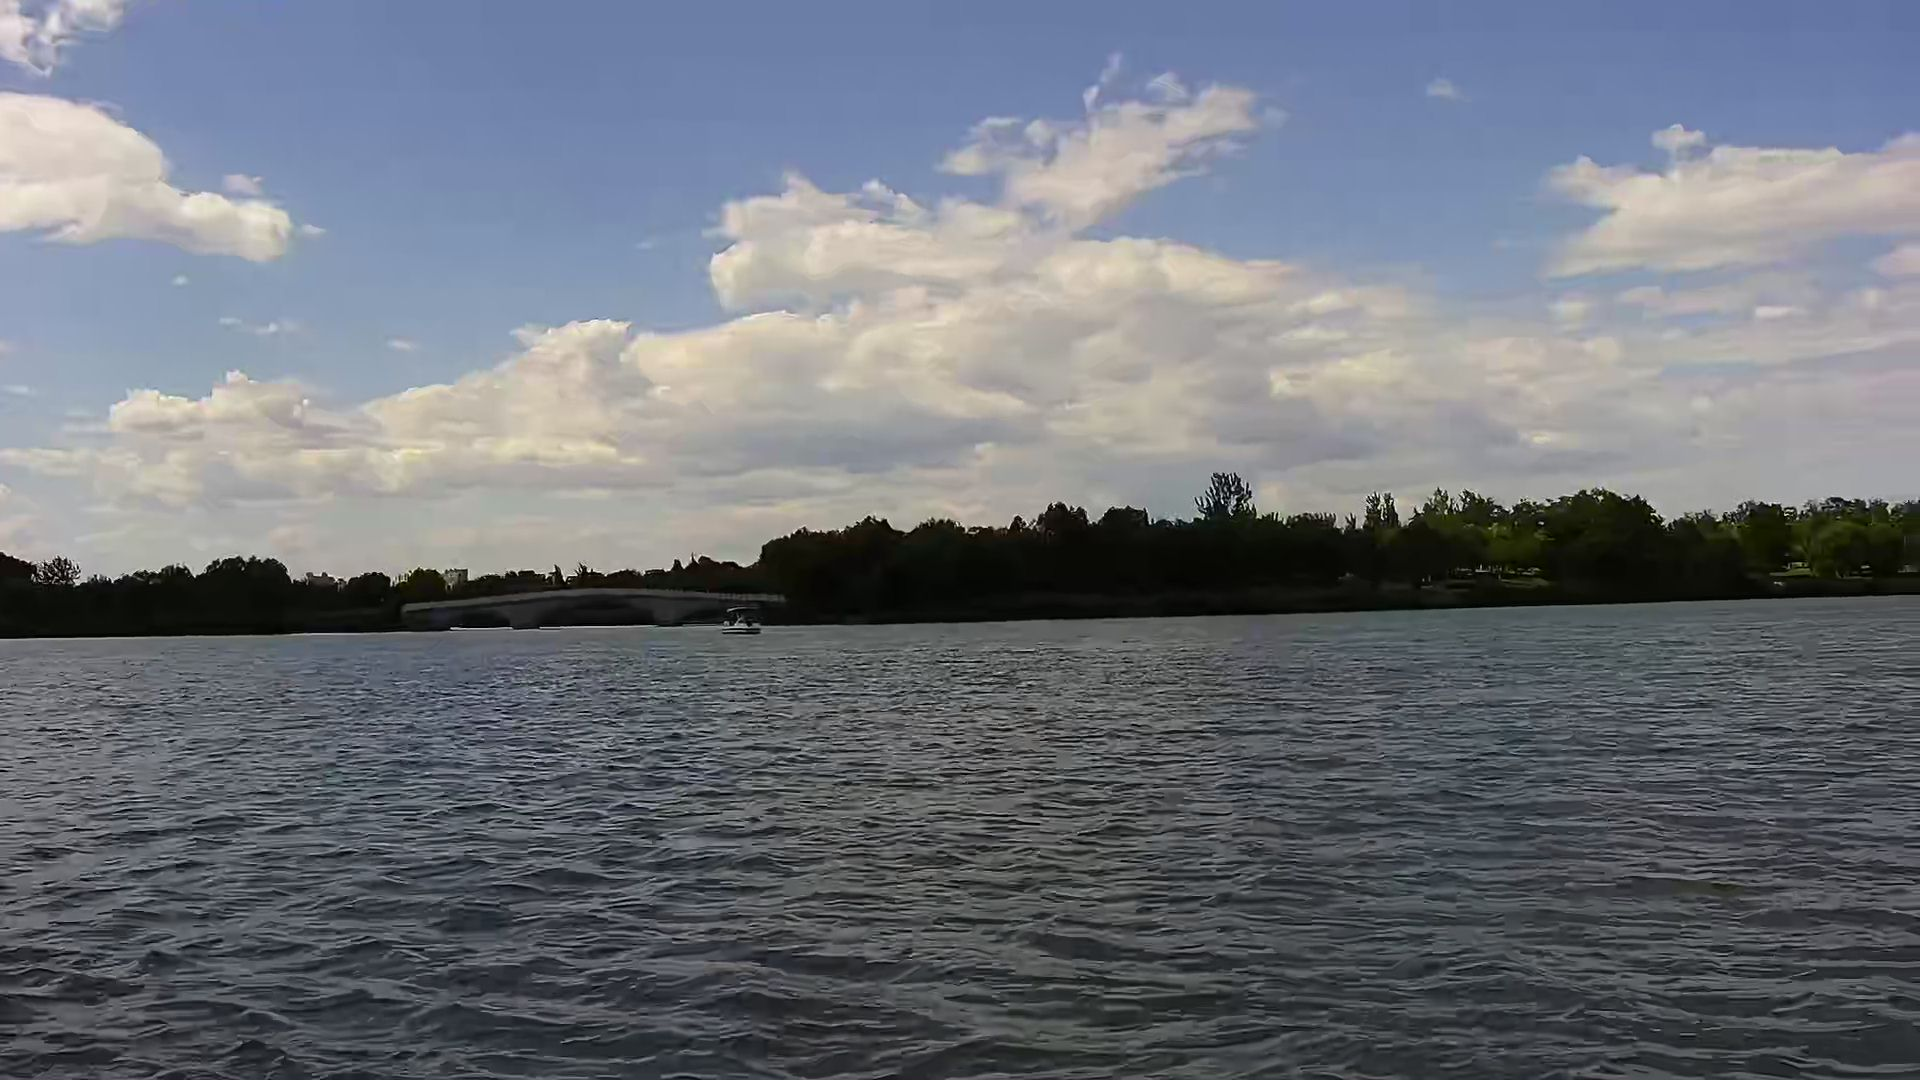boat: (717, 604, 764, 637)
bridge: (401, 591, 786, 634)
